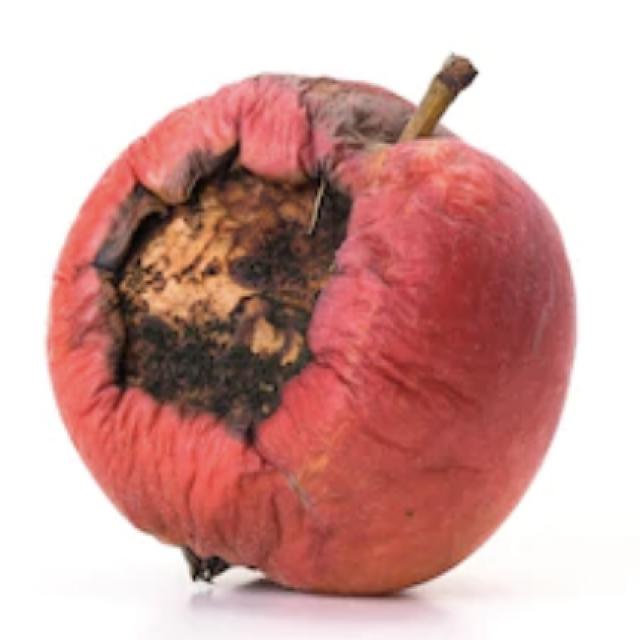rotten_apple: (50, 31, 578, 595)
